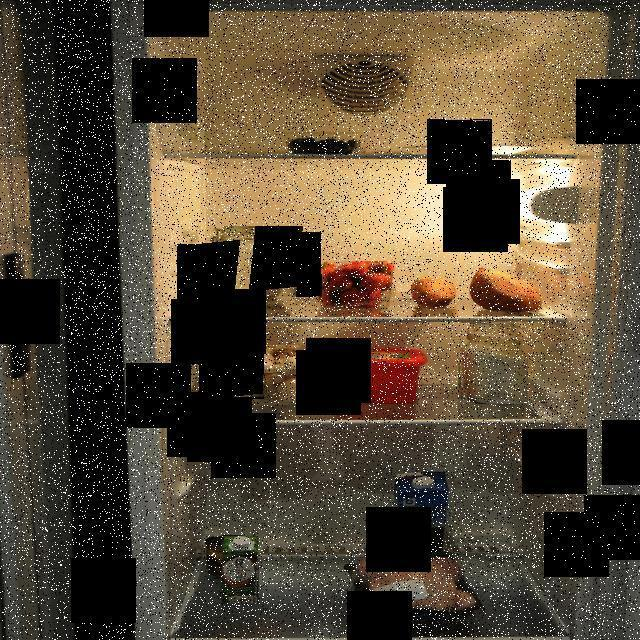blueberries: (280, 132, 372, 154)
butter: (326, 346, 430, 404)
cheese: (432, 118, 490, 151)
chicken: (342, 552, 487, 628)
corn: (206, 534, 252, 578)
flour: (198, 226, 304, 314)
heavy_cream: (222, 536, 260, 606)
milk: (394, 472, 455, 562)
mushrooms: (220, 346, 312, 402)
strawberries: (309, 261, 396, 311)
sugar: (456, 320, 528, 404)
sweet_potato: (469, 266, 544, 312), (412, 273, 459, 309)
